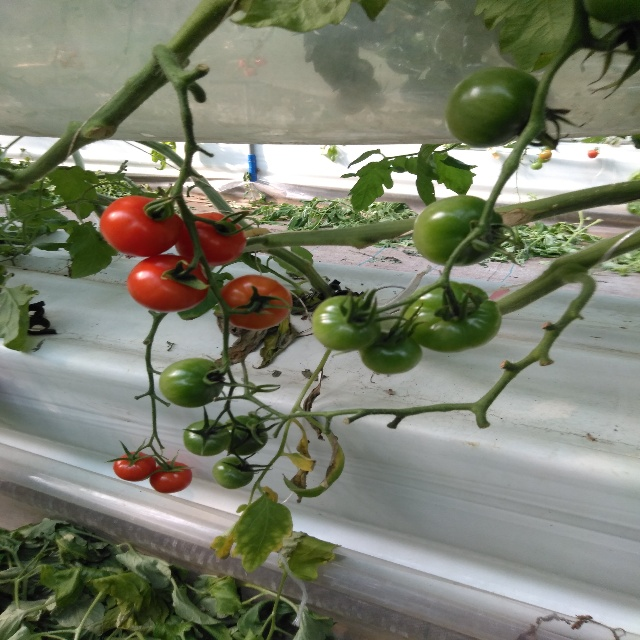l_fully_ripened: (99, 195, 183, 258), (126, 254, 210, 312), (175, 212, 246, 266), (149, 460, 193, 494), (113, 451, 157, 482)
l_green: (444, 67, 545, 148), (402, 281, 501, 354), (411, 195, 505, 267), (312, 296, 381, 351), (158, 357, 224, 409), (357, 330, 421, 373), (223, 416, 268, 456), (181, 419, 229, 456), (212, 456, 255, 489)
l_half_ripened: (219, 274, 294, 330)
